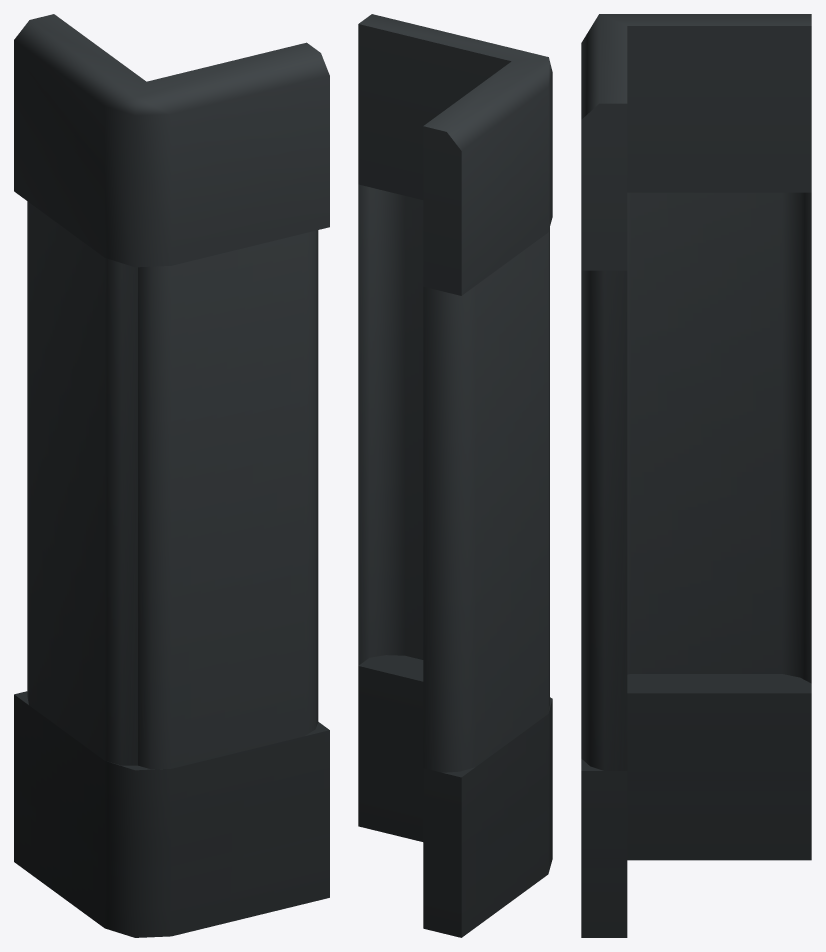
Rendered from Panel_Black_01.glb.
3 views of the same model, side by side, from view 1: azimuth 30°, elevation 25°; view 2: azimuth 150°, elevation 25°; view 3: azimuth 270°, elevation 25° (orthographic). The views are drawn at different scales.
Parts seen in each view (by area): view 1: Panel_Black_01; view 2: Panel_Black_01; view 3: Panel_Black_01.
Part boxes in pixels (x1,y1,x2,y2): Panel_Black_01: (14, 14, 329, 937); Panel_Black_01: (358, 14, 552, 937); Panel_Black_01: (581, 14, 811, 937).
Size of the model in its own units: 0.25 by 1 by 0.25.
Materials: 1 (1 with a texture image).
